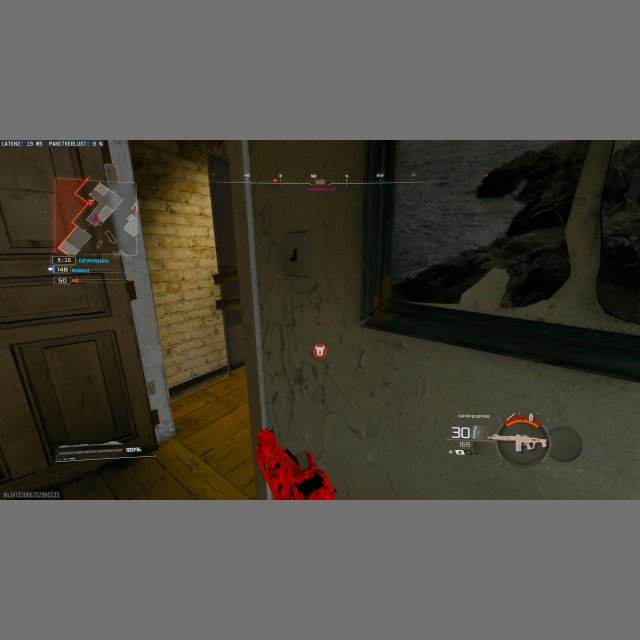player: (476, 143, 607, 309)
